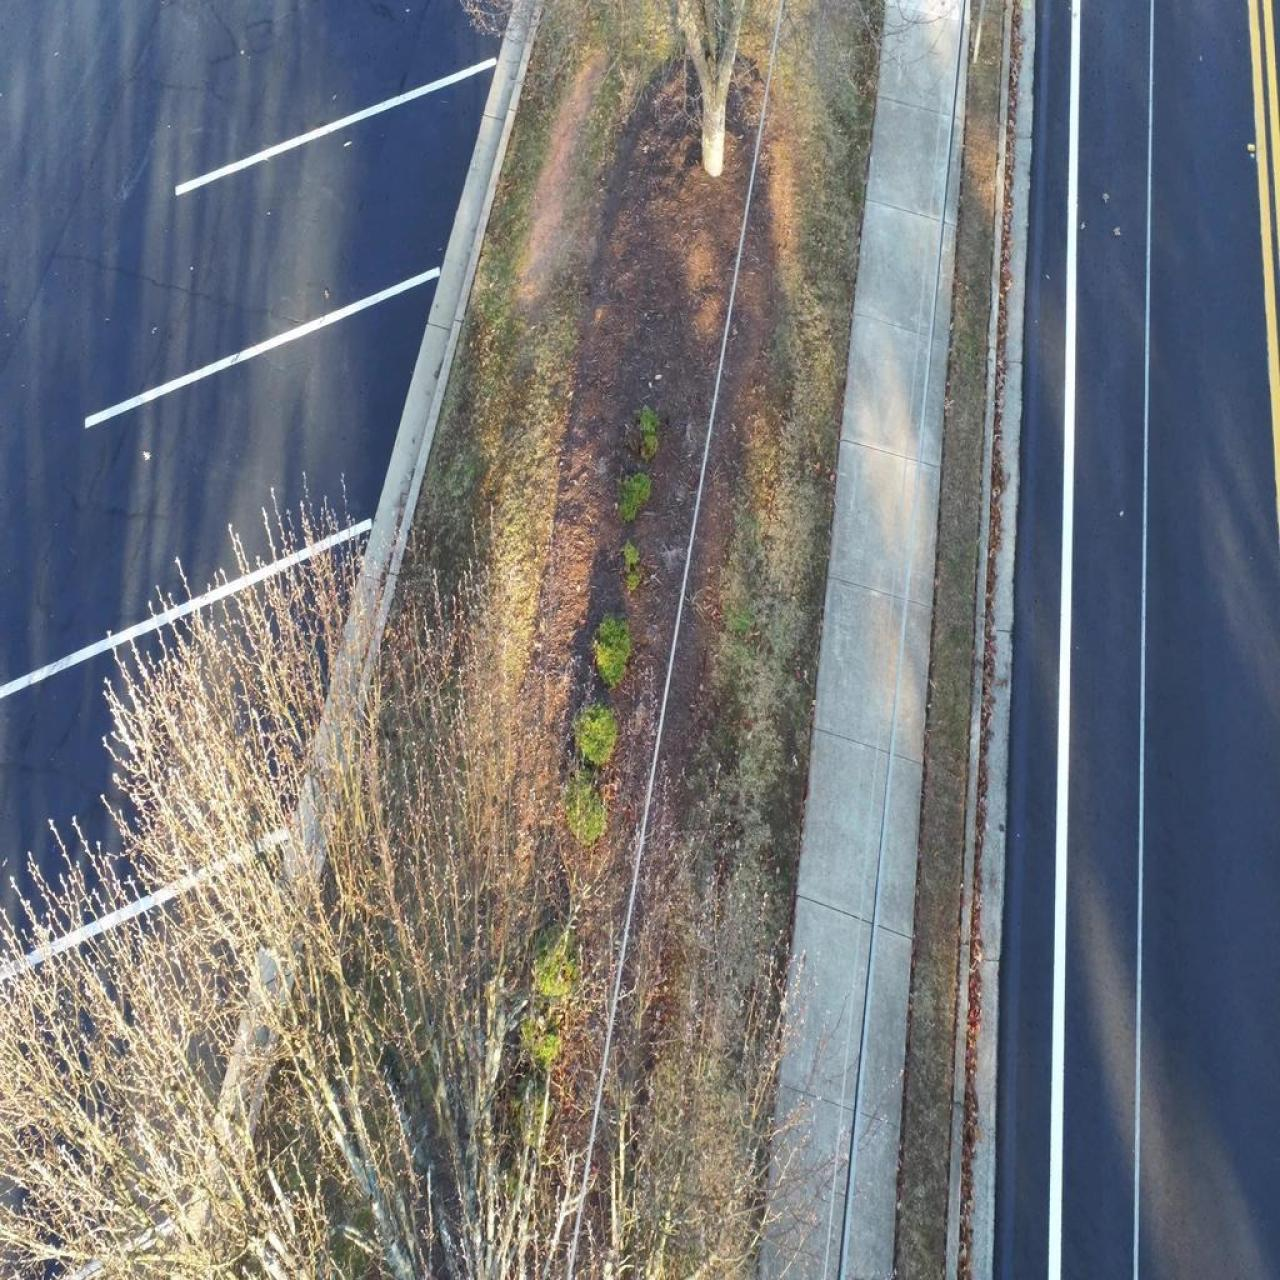cable: (565, 0, 787, 1279), (1131, 0, 1156, 1279)
